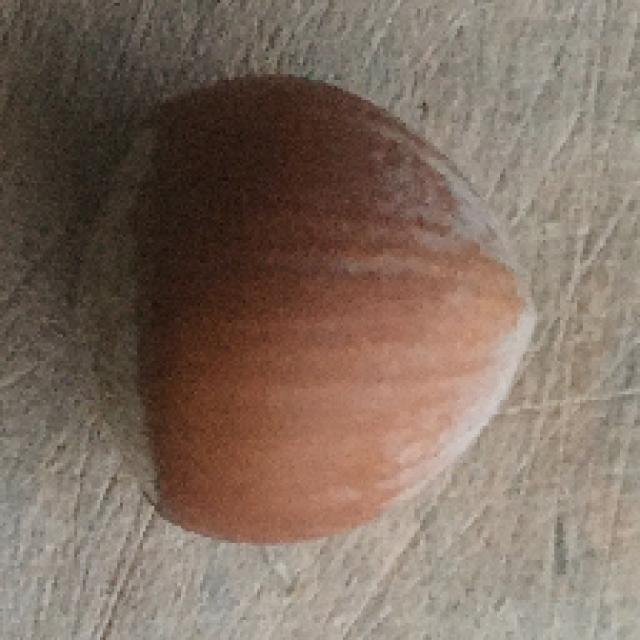QualityHazelnut: (67, 78, 537, 553)
